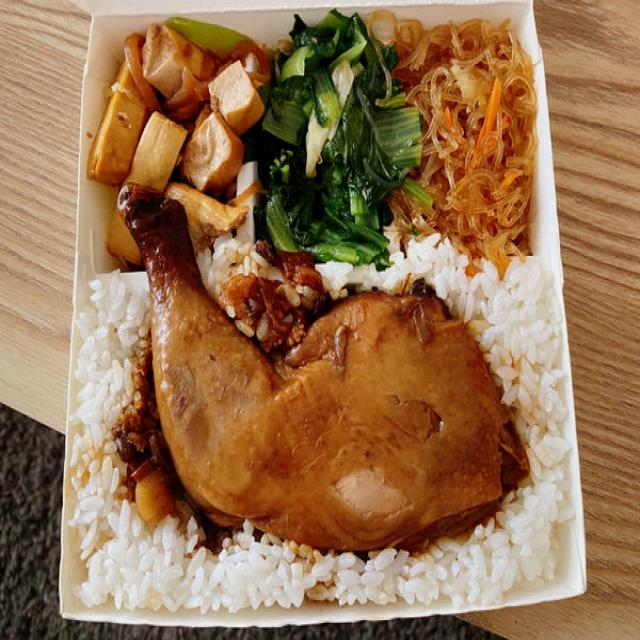Chicken Leg Steak: (161, 312, 433, 521)
Fushan-lettuce: (267, 33, 371, 272)
rice: (95, 556, 476, 608), (77, 276, 139, 538), (522, 276, 552, 587)
